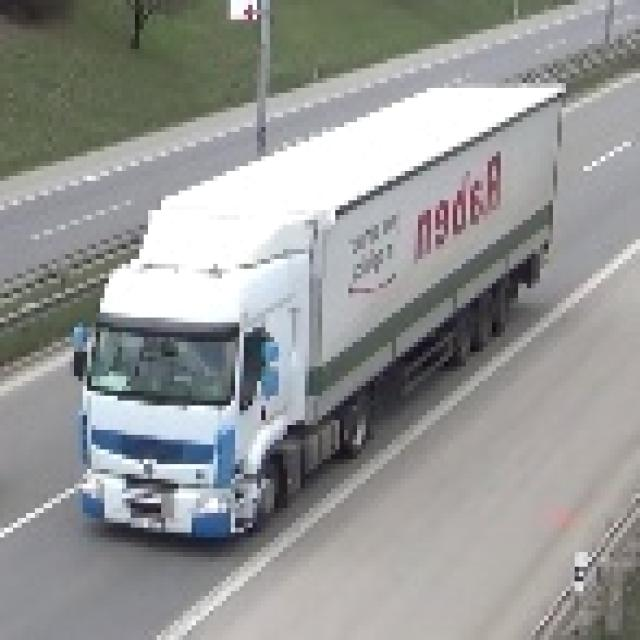TRUCK: (83, 86, 566, 560)
